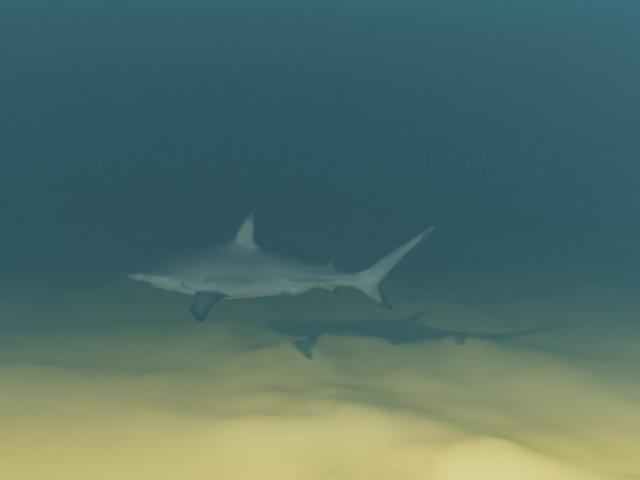Carribean Shark.001: (127, 213, 436, 322)
